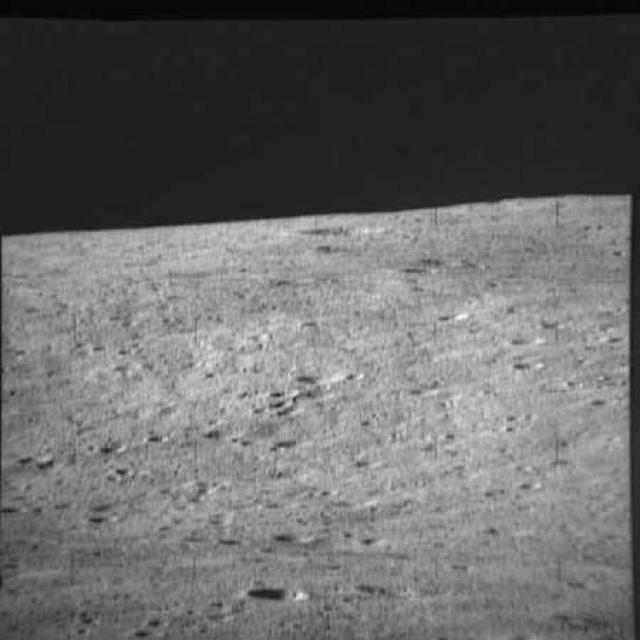crater: (236, 576, 314, 612), (290, 214, 392, 241), (290, 366, 354, 390), (496, 328, 550, 351), (416, 250, 477, 266)
